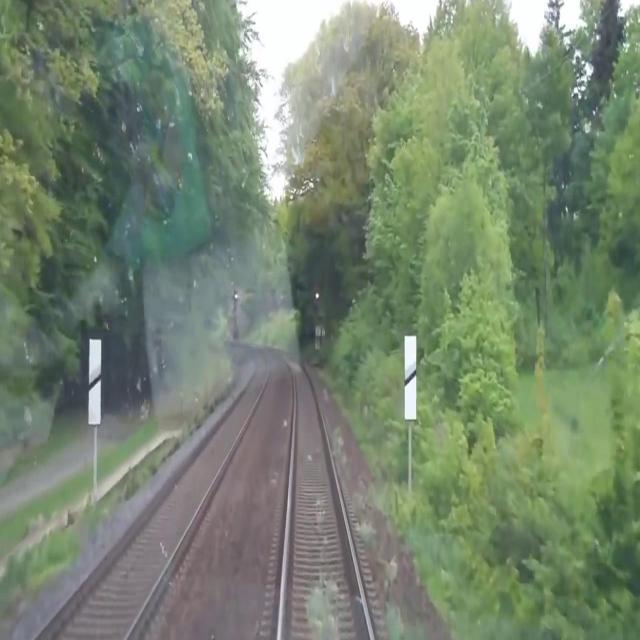rail-track: (38, 354, 267, 639), (282, 357, 369, 639)
